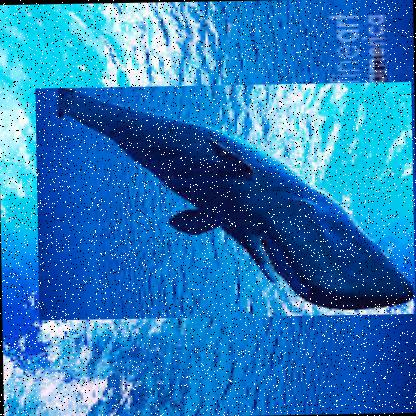sperm_whale: (35, 79, 415, 320)
